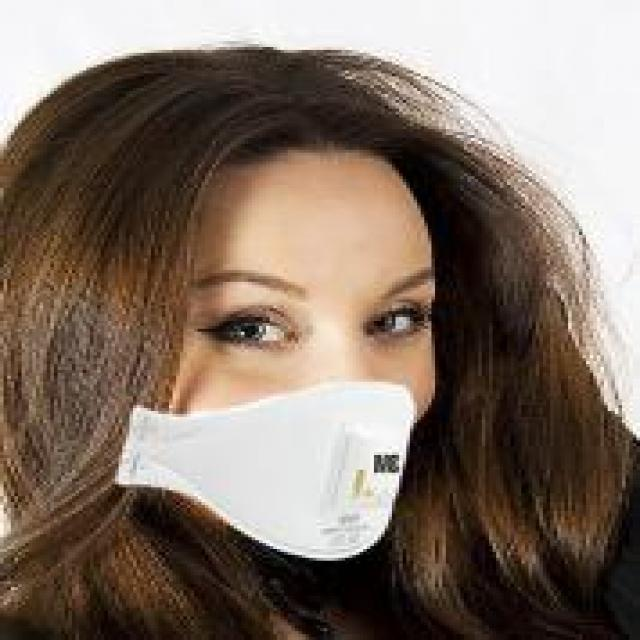mask: (79, 65, 507, 558)
